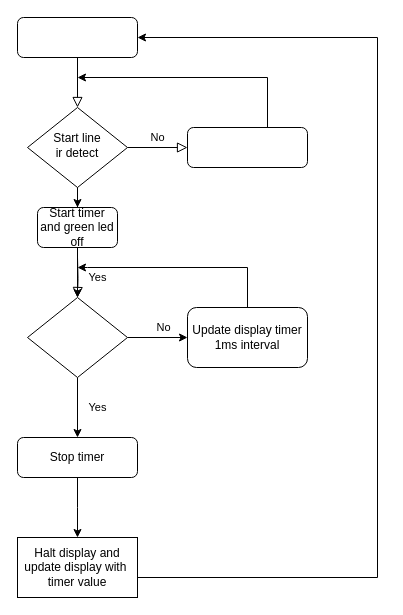
This 403x615 diagram has some shape labels left out. The centre of each missing label's shape, as x and y in pixels:
"Blink green lamp 200ms interval" goes at point (247, 147).
"Is goal line ir detected" goes at point (77, 337).
"Start" goes at point (77, 37).
